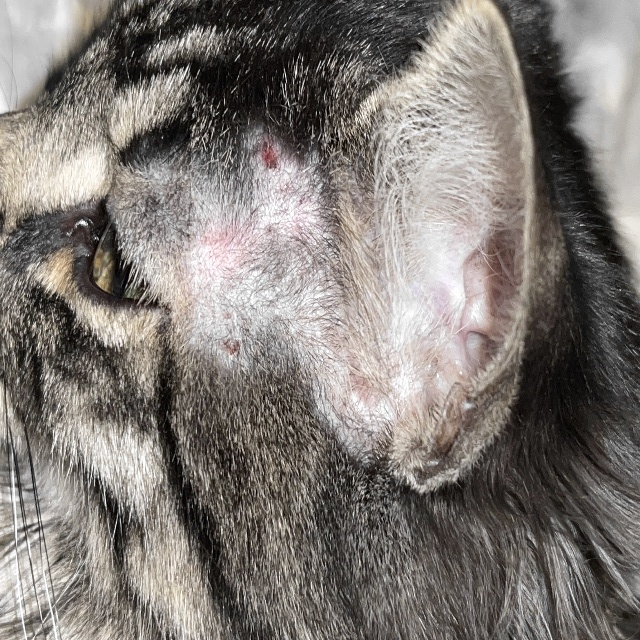ringworm: (188, 141, 334, 354)
